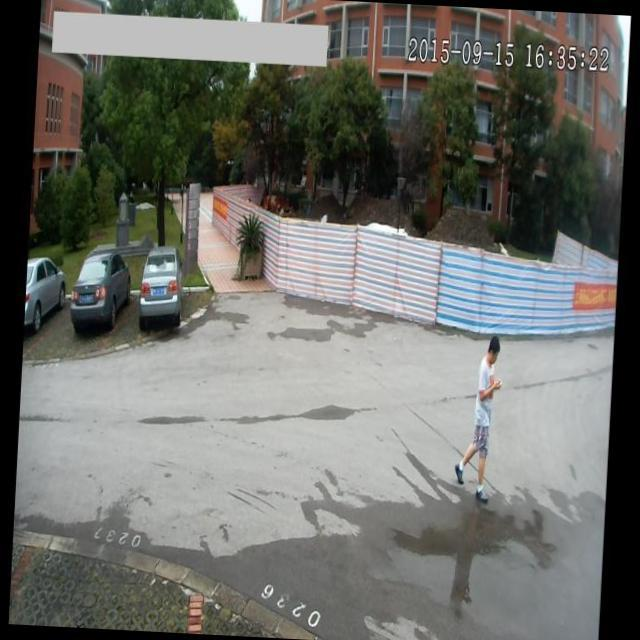person: (452, 331, 504, 504)
